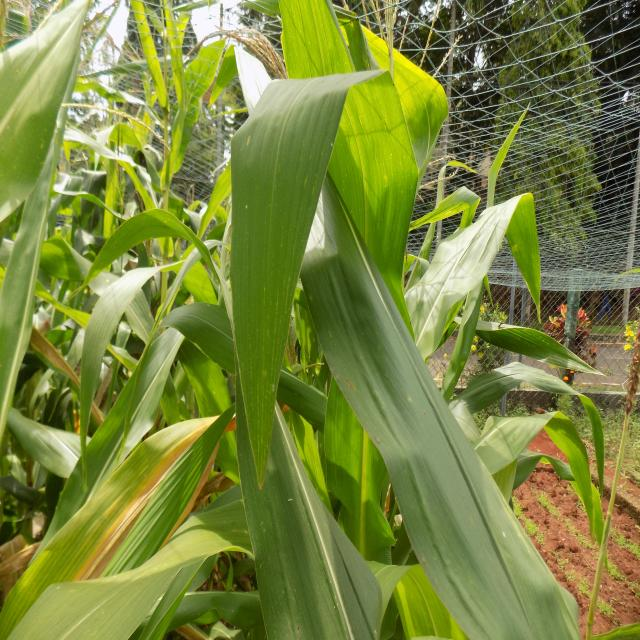millet_healthy: (304, 170, 582, 640), (227, 73, 385, 487), (40, 294, 248, 556), (0, 414, 225, 640), (72, 246, 246, 450), (5, 522, 260, 640), (406, 188, 544, 350), (0, 0, 82, 227), (452, 361, 615, 475), (473, 409, 605, 530), (86, 207, 217, 290), (11, 406, 81, 482)
